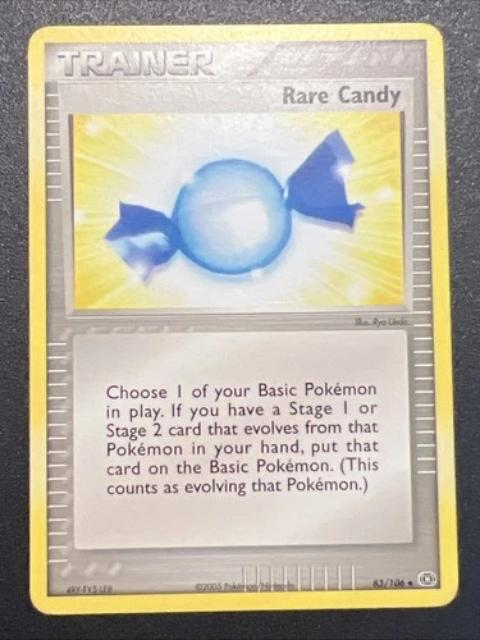Card: (23, 19, 465, 619)
Name: (273, 81, 405, 111)
